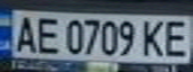0: (60, 16, 84, 55), (100, 17, 121, 56)
7: (81, 16, 103, 56)
9: (115, 17, 139, 57)
A: (9, 12, 39, 54)
E: (160, 17, 193, 59), (33, 13, 63, 55)
K: (139, 17, 169, 59)
